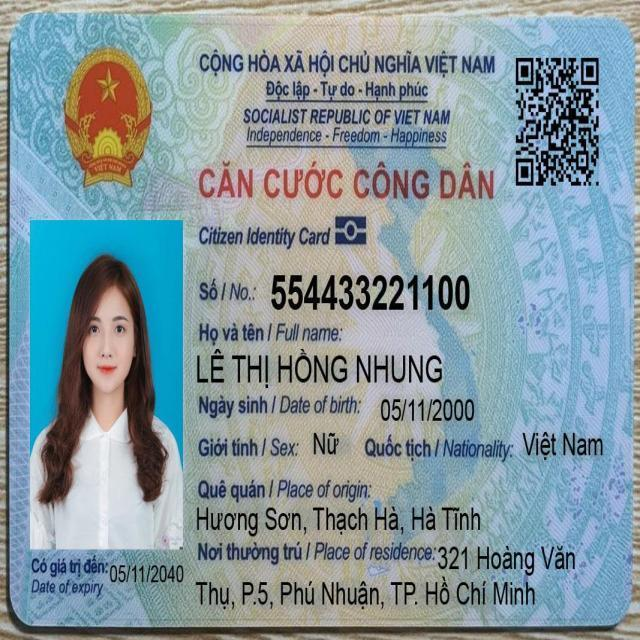current_place: (193, 575, 539, 615), (435, 539, 578, 577)
dob: (378, 394, 478, 428)
expire_date: (106, 559, 186, 588)
gender: (310, 426, 341, 463)
id: (269, 269, 472, 317)
name: (195, 344, 446, 393)
nationality: (519, 425, 605, 466)
origin_place: (195, 499, 483, 540)
